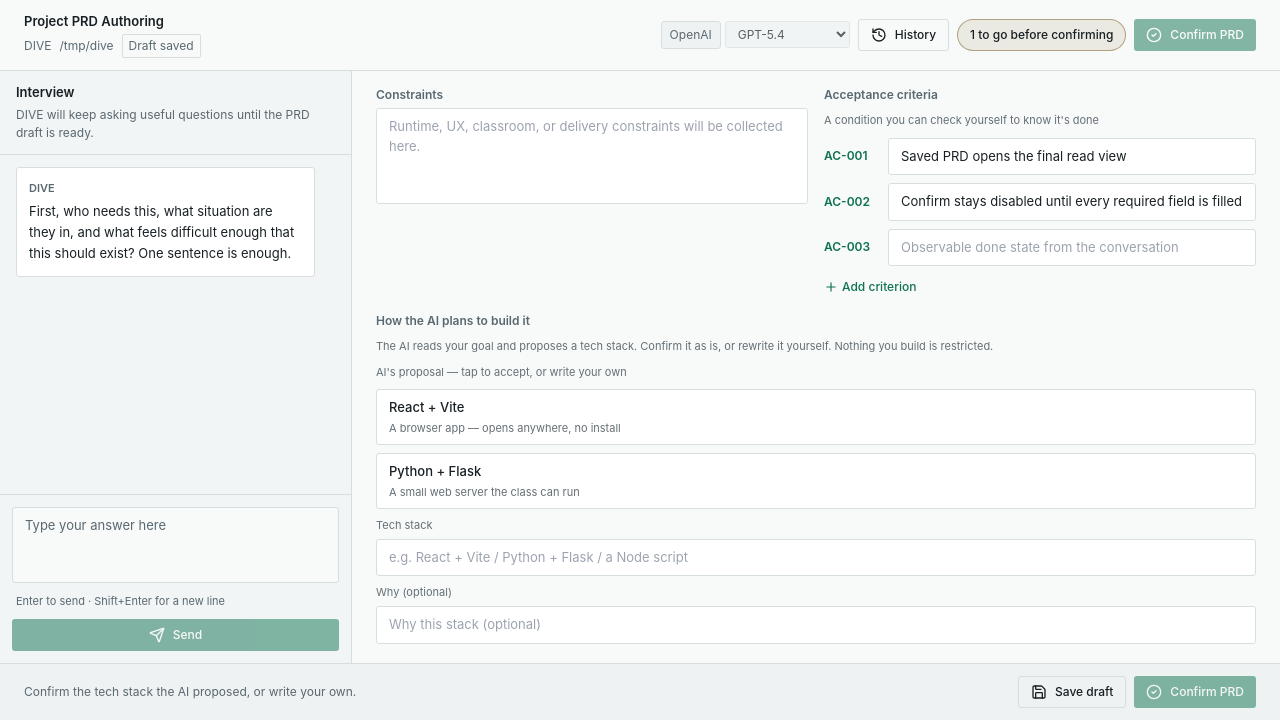
Scenario: PrdAuthoringBoard › stack confirmation (S-075) › fills the stack from an AI card as a student-confirmed decision
(page scrolled)
Expected: the text "AI's proposal — tap to accept, or write your own" is shown, x1=376 y1=365 x2=627 y2=379
Expected: the text "A browser app — opens anywhere, no install" is shown, x1=389 y1=420 x2=621 y2=436
Click the button with test id "prd-architecture-stack-proposal-1" at [435, 471], box x1=376 y1=453 x2=1256 y2=509
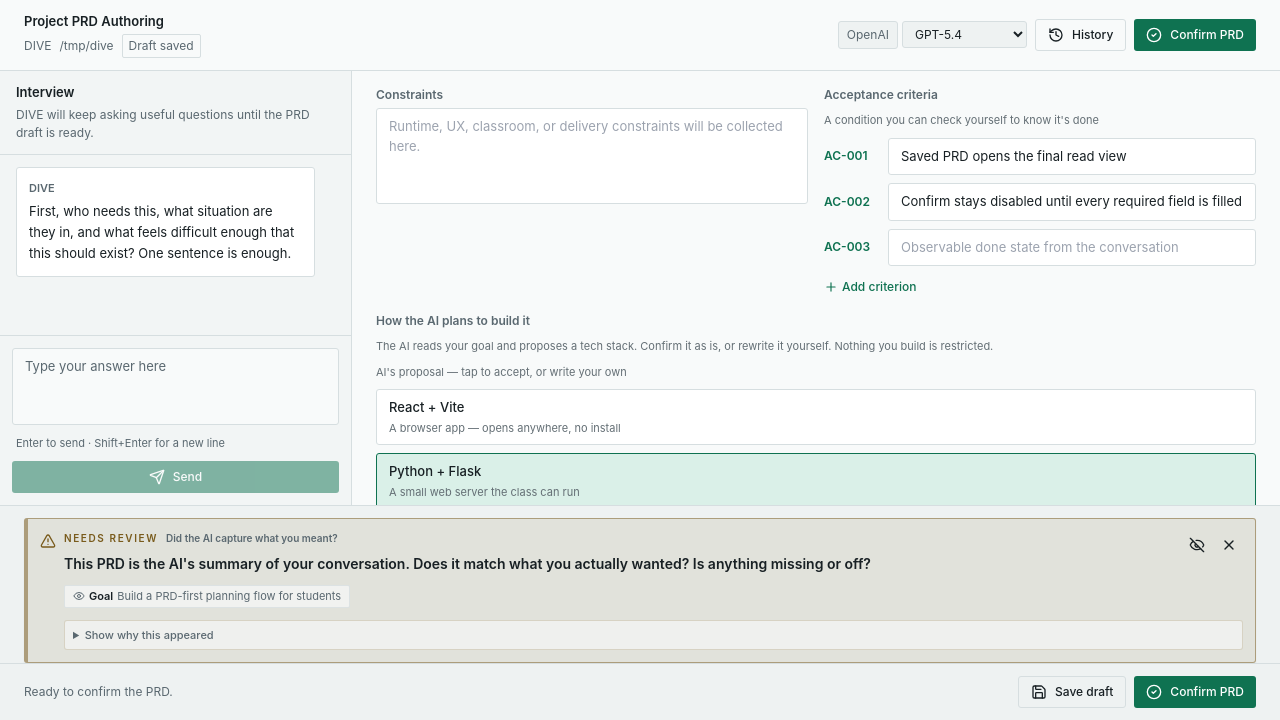
Expected: the element with test id "prd-architecture-stack-proposals" is shown, x1=376 y1=364 x2=1256 y2=505
Expected: the button with test id "prd-confirm-header" is enabled, x1=1134 y1=19 x2=1256 y2=51
